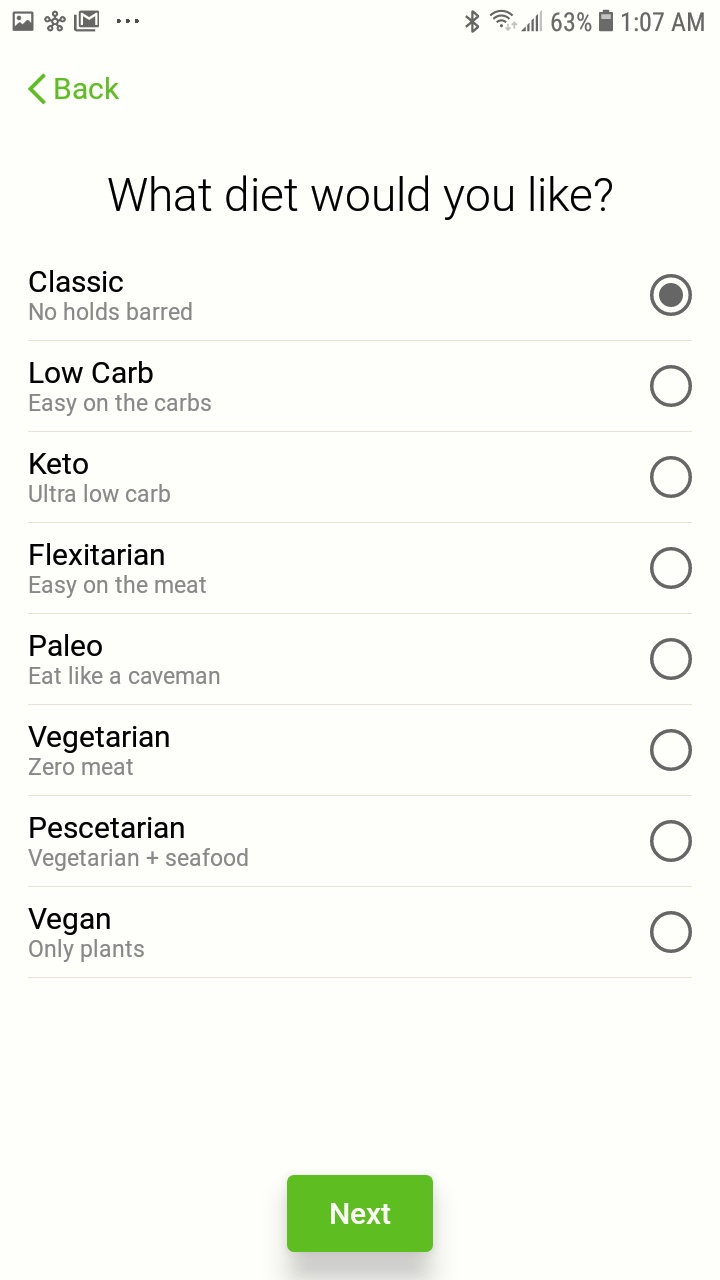CheckedTextView: (28, 820, 693, 872), (29, 911, 693, 963), (30, 547, 693, 599), (30, 365, 692, 417), (29, 456, 693, 503), (30, 274, 693, 321), (30, 638, 693, 685), (30, 729, 693, 776)
Icon: (29, 74, 48, 105)
Text: (109, 175, 613, 221), (28, 847, 249, 872), (30, 393, 212, 417), (30, 575, 207, 599), (29, 726, 171, 754), (30, 665, 221, 685), (30, 817, 185, 839), (30, 543, 165, 566), (30, 302, 193, 321), (30, 361, 154, 384), (29, 939, 145, 963), (29, 484, 171, 503), (29, 908, 112, 936), (29, 270, 124, 293), (30, 758, 135, 776), (30, 634, 103, 657), (55, 78, 120, 101), (31, 452, 90, 475)
TextButton: (287, 1175, 434, 1253)
UpperTaskBar: (1, 1, 720, 35)
